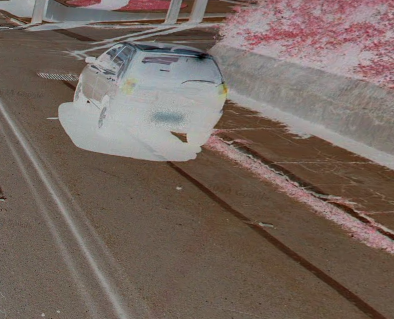car: (67, 31, 228, 162)
